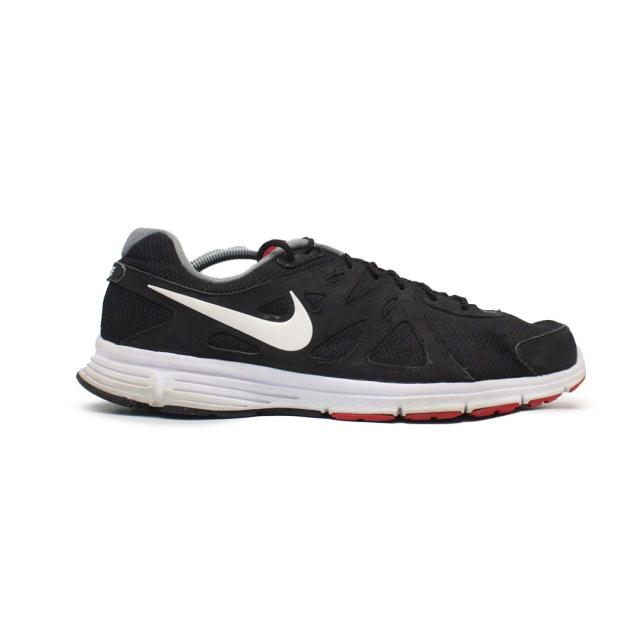heel: (100, 227, 168, 353)
midsole: (78, 337, 588, 419)
uppersole: (171, 236, 579, 383)
